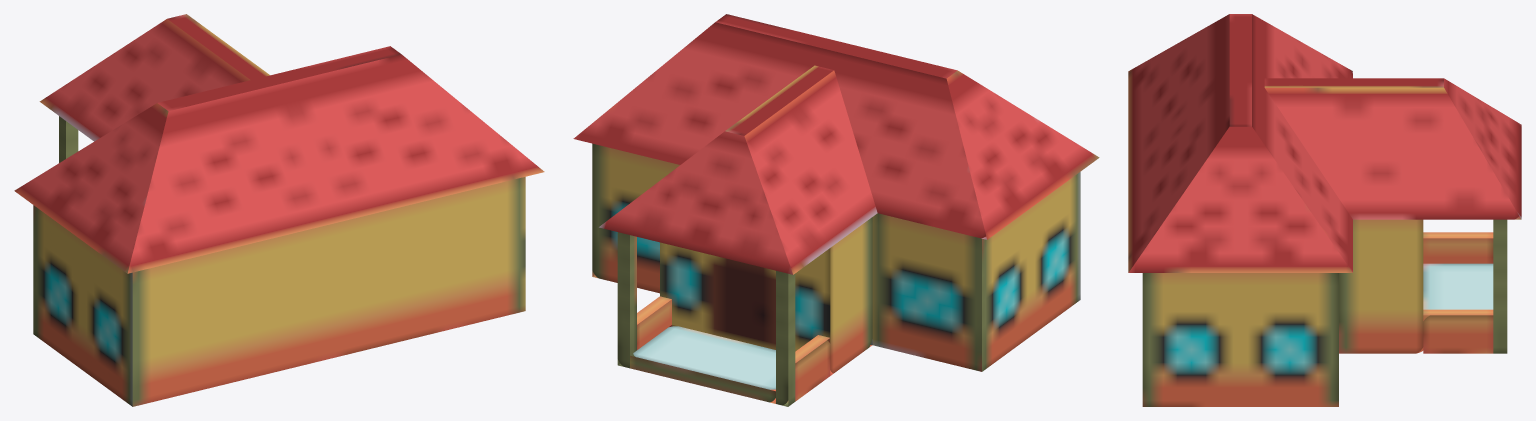
Rendered from Rumah_Tipe2_T2.fbx.
3 renders of one model, left to right at view 1: azimuth 30°, elevation 25°; view 2: azimuth 150°, elevation 25°; view 3: azimuth 270°, elevation 25°, orthographic.
Visible parts, largest first — view 1: Tembok2, Atap2, Atap1, Pole1; view 2: Atap2, Tembok2, Atap1, Tembok1, Lantai, Pole1, Pole2, Tembok_K1, Tembok_K2; view 3: Atap2, Atap1, Tembok2, Tembok1, Lantai, Tembok_K2, Tembok_K1, Pole2.
Part boxes in pixels (<box>): Tembok2: <box>33,177,525,406</box>; Atap2: <box>14,46,544,273</box>; Atap1: <box>39,14,269,141</box>; Pole1: <box>59,116,78,162</box>; Atap2: <box>573,14,1099,239</box>; Tembok2: <box>592,143,1080,371</box>; Atap1: <box>599,65,877,274</box>; Tembok1: <box>660,217,872,375</box>; Lantai: <box>630,325,775,403</box>; Pole1: <box>776,271,795,406</box>; Pole2: <box>617,232,636,368</box>; Tembok_K1: <box>795,335,830,401</box>; Tembok_K2: <box>637,296,671,349</box>; Atap2: <box>1128,14,1352,272</box>; Atap1: <box>1264,78,1521,219</box>; Tembok2: <box>1142,273,1338,406</box>; Tembok1: <box>1339,219,1423,353</box>; Lantai: <box>1423,263,1493,309</box>; Tembok_K2: <box>1423,309,1493,353</box>; Tembok_K1: <box>1423,232,1493,263</box>; Pole2: <box>1493,219,1507,353</box>.
Bounding box in the file's own units: 1700 × 950 × 1400.
1 material, 1 textured.
